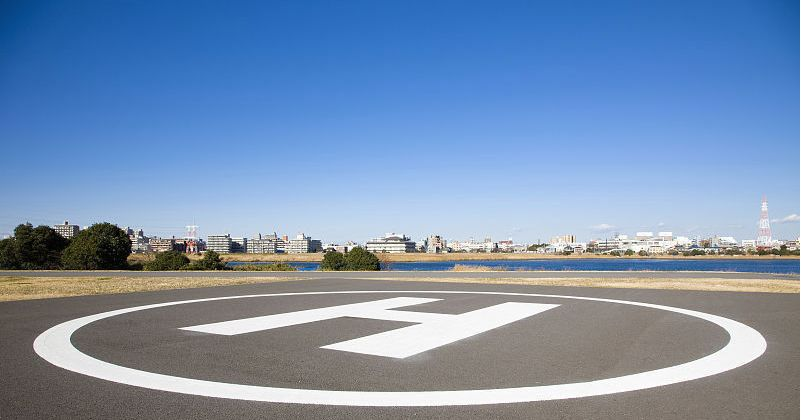H: (177, 296, 561, 361)
